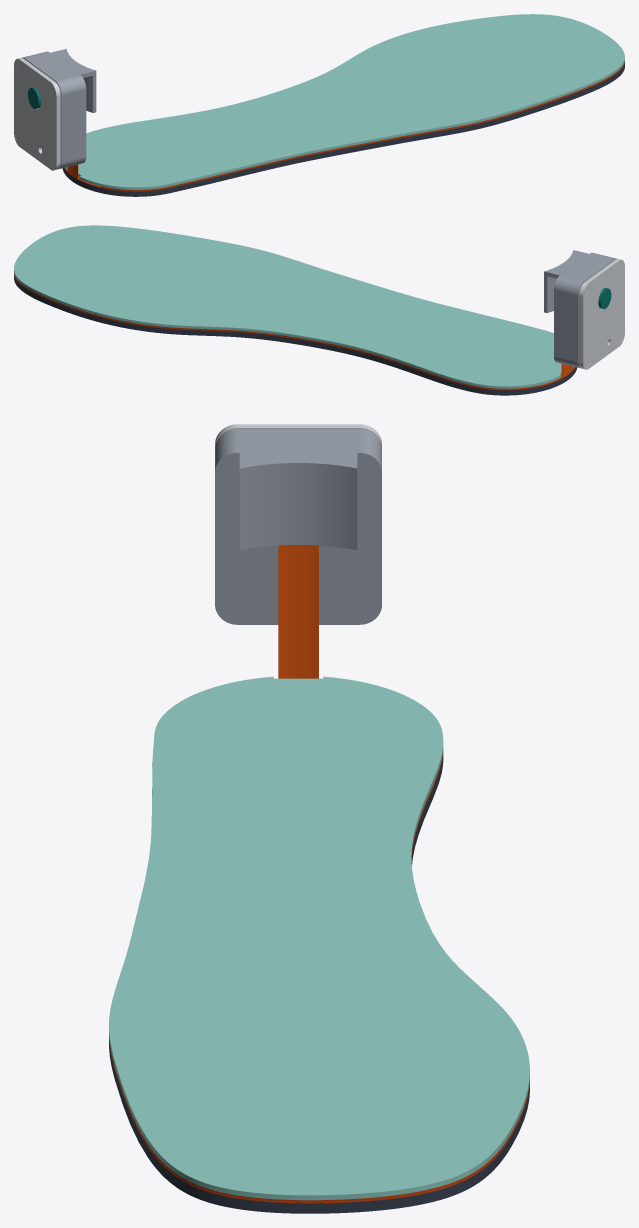
3 views of the same model, one above another, from view 1: azimuth 30°, elevation 25°; view 2: azimuth 150°, elevation 25°; view 3: azimuth 270°, elevation 25° (orthographic). The views are drawn at different scales.
Parts seen in each view (by area): view 1: Top cover, PU foam and textile, Heel pod base with clip, Heel pod lid and screws, Insole base, EVA foam, Sensor laminate (carrier, traces, spacer); view 2: Top cover, PU foam and textile, Heel pod base with clip, Heel pod lid and screws, Insole base, EVA foam, Sensor laminate (carrier, traces, spacer); view 3: Top cover, PU foam and textile, Heel pod base with clip, Flat flex tail and connector, Insole base, EVA foam, Sensor laminate (carrier, traces, spacer).
Boxes of the visible parts, x1,y1,x2,y2 form: Top cover, PU foam and textile: (65,14,624,189); Heel pod base with clip: (22,49,96,169); Heel pod lid and screws: (14,58,60,170); Insole base, EVA foam: (62,63,624,196); Sensor laminate (carrier, traces, spacer): (64,61,624,191); Top cover, PU foam and textile: (14,225,574,388); Heel pod base with clip: (544,250,616,368); Heel pod lid and screws: (579,259,624,369); Insole base, EVA foam: (14,275,576,395); Sensor laminate (carrier, traces, spacer): (14,273,575,390); Top cover, PU foam and textile: (109,676,529,1200); Heel pod base with clip: (215,429,381,624); Flat flex tail and connector: (278,545,318,678); Insole base, EVA foam: (109,753,529,1213); Sensor laminate (carrier, traces, spacer): (109,749,529,1203).
Size of the model in its own units: 0.2916 by 0.0573 by 0.0932.
